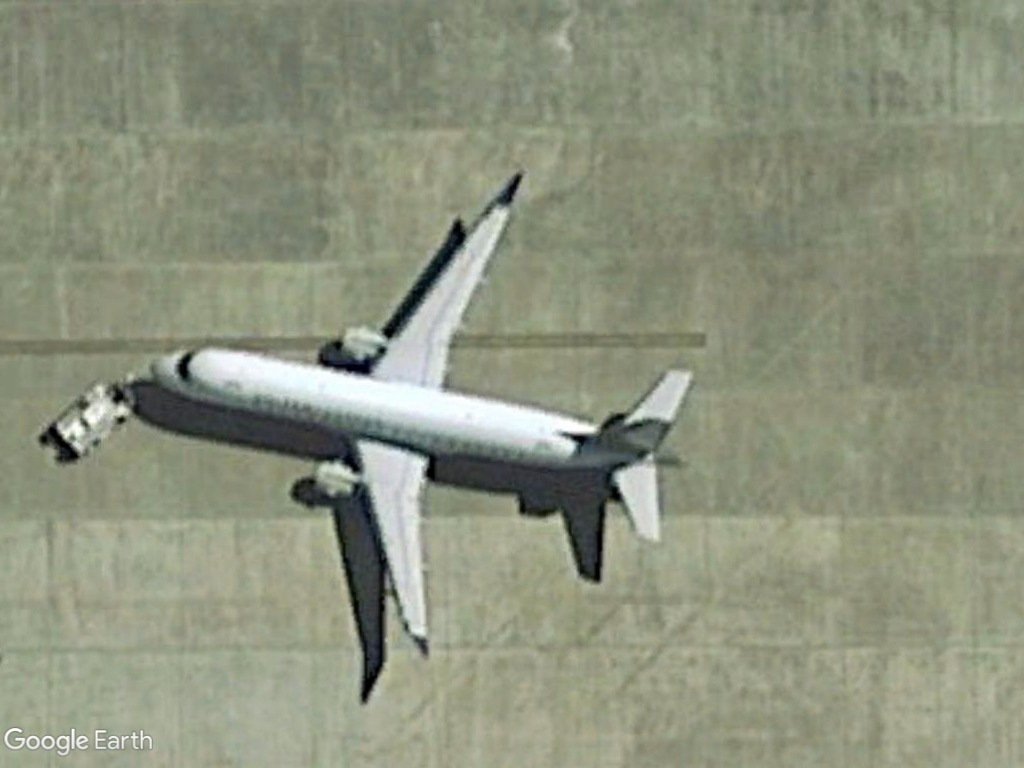airliner: (141, 175, 702, 659)
pushbacktruck: (43, 376, 139, 472)
